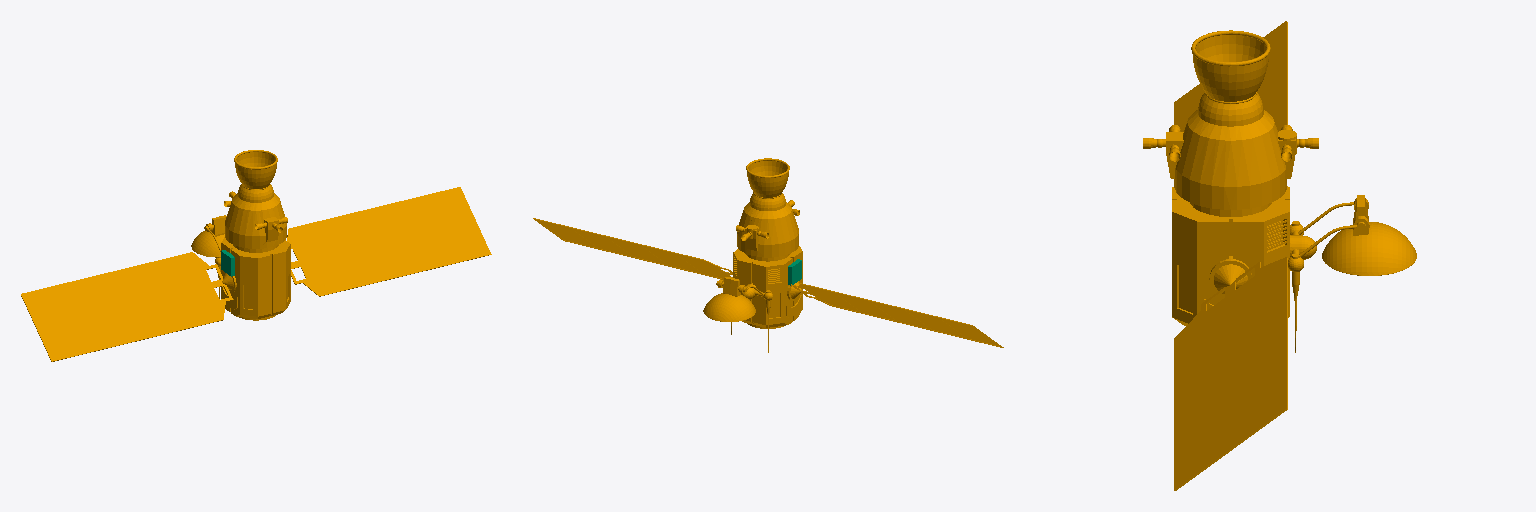
The robot description file, URDF, robot "artificial1":
<?xml version='1.0' encoding='utf-8'?>
<robot name="artificial1">
  <link name="base_link">
    <visual>
      <geometry>
        <mesh filename="satellite.stl" />
      </geometry>
    </visual>
    <collision>
      <geometry>
        <mesh filename="satellite.stl" />
      </geometry>
    </collision>
  </link>
  <link name="artificial1_mount" />
  <joint name="satellite_mount_fixed" type="fixed">
    <parent link="base_link" />
    <child link="artificial1_mount" />
    <origin xyz="-0.49925461956241124 0.013972663783229844 0.8680413642841108" rpy="0.0 -1.5707963267948966 0.0" />
  </joint>
  <link name="mount_support">
    <visual>
      <geometry>
        <mesh filename="mount_support.stl" />
      </geometry>
    </visual>
    <collision>
      <geometry>
        <mesh filename="mount_support.stl" />
      </geometry>
    </collision>
  </link>
  <joint name="support_fixed" type="fixed">
    <parent link="artificial1_mount" />
    <child link="mount_support" />
    <origin xyz="0 0 0" rpy="0 0 0" />
  </joint>
</robot>

--- Facts derived from the render (not from the file) ---
3 views of the same robot in one strip: view 1: azimuth 30°, elevation 25°; view 2: azimuth 150°, elevation 25°; view 3: azimuth 270°, elevation 25° (orthographic).
Model artificial1 with 3 links and 2 joints (2 fixed), rooted at base_link, posed every joint at zero.
Visible links, largest first — view 1: base_link; view 2: base_link; view 3: base_link.
Link boxes in pixels (box(x1,y1,x2,y2)): base_link: box(21, 150, 491, 361); base_link: box(533, 158, 1003, 352); base_link: box(1143, 21, 1416, 490).
Bounding box of the posed robot: 8 × 2.39 × 2.94 m (x, y, z).
2 mesh visuals loaded from 2 distinct referenced files (2 binary STL).
